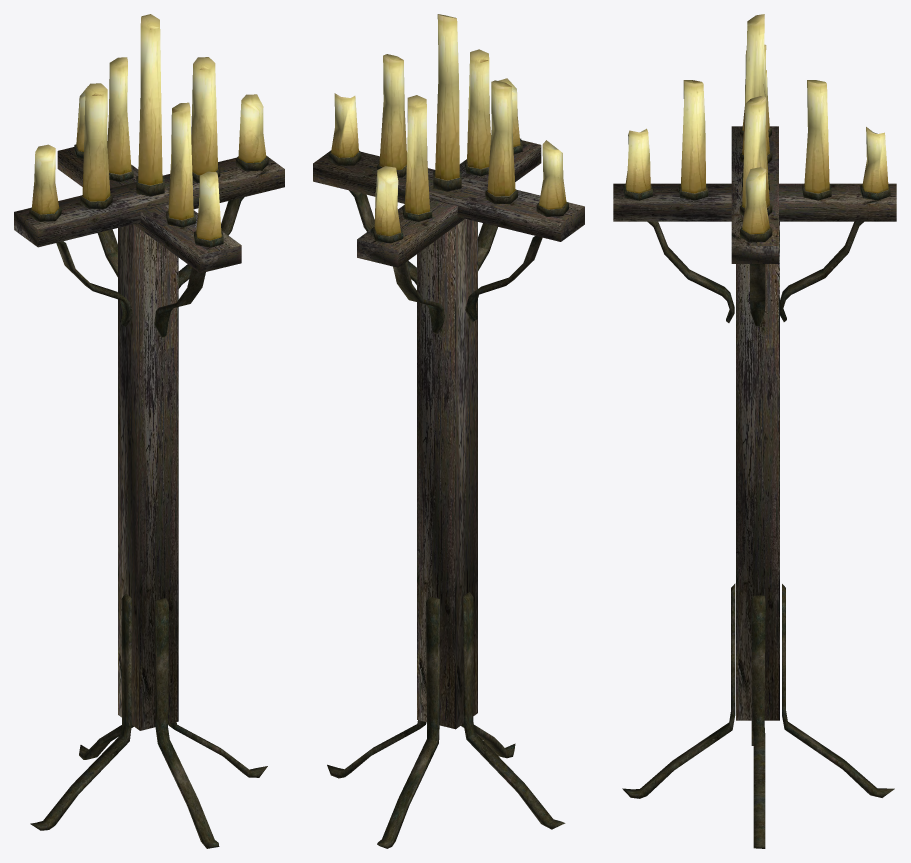
File: GS_FURNITURE_CANDELABRA_01.glb
The picture shows the model from 3 angles, left to right: view 1: azimuth 30°, elevation 25°; view 2: azimuth 150°, elevation 25°; view 3: azimuth 270°, elevation 25°; orthographic projection.
Visible parts, largest first — view 1: Mesh; view 2: Mesh; view 3: Mesh.
Boxes of the visible parts, x1,y1,x2,y2 form: Mesh: (14, 14, 284, 848); Mesh: (313, 14, 584, 848); Mesh: (613, 14, 896, 848).
Size of the model in its own units: 0.7242 by 2.2 by 0.7242.
3 materials, 3 textured.
